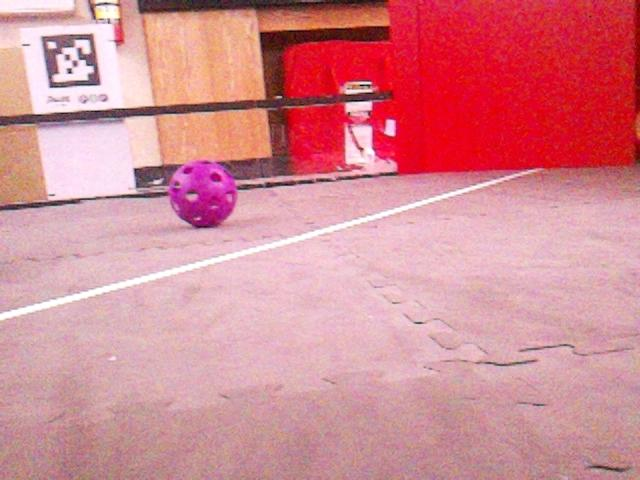Purple: (164, 158, 238, 227)
